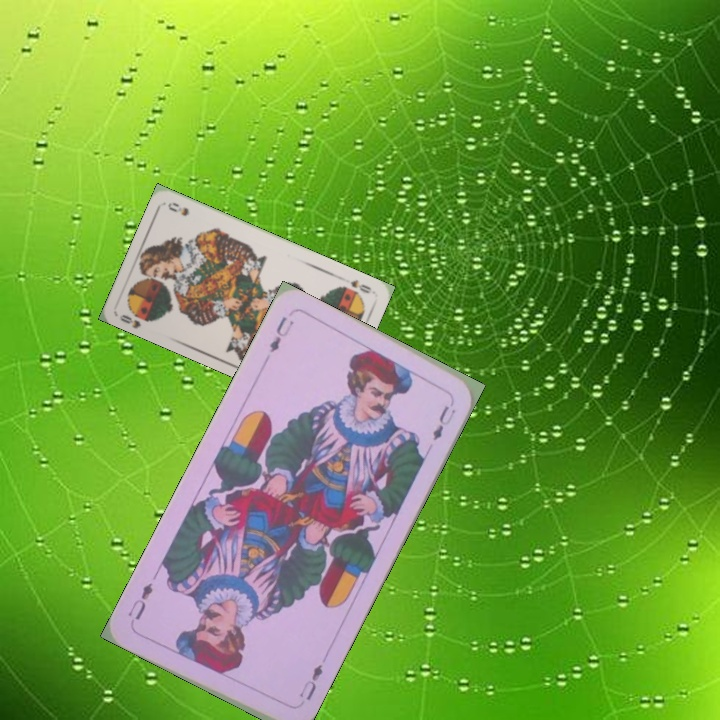EU: (265, 312, 297, 356), (295, 660, 326, 703)
SO: (115, 308, 155, 331), (346, 275, 374, 296)
